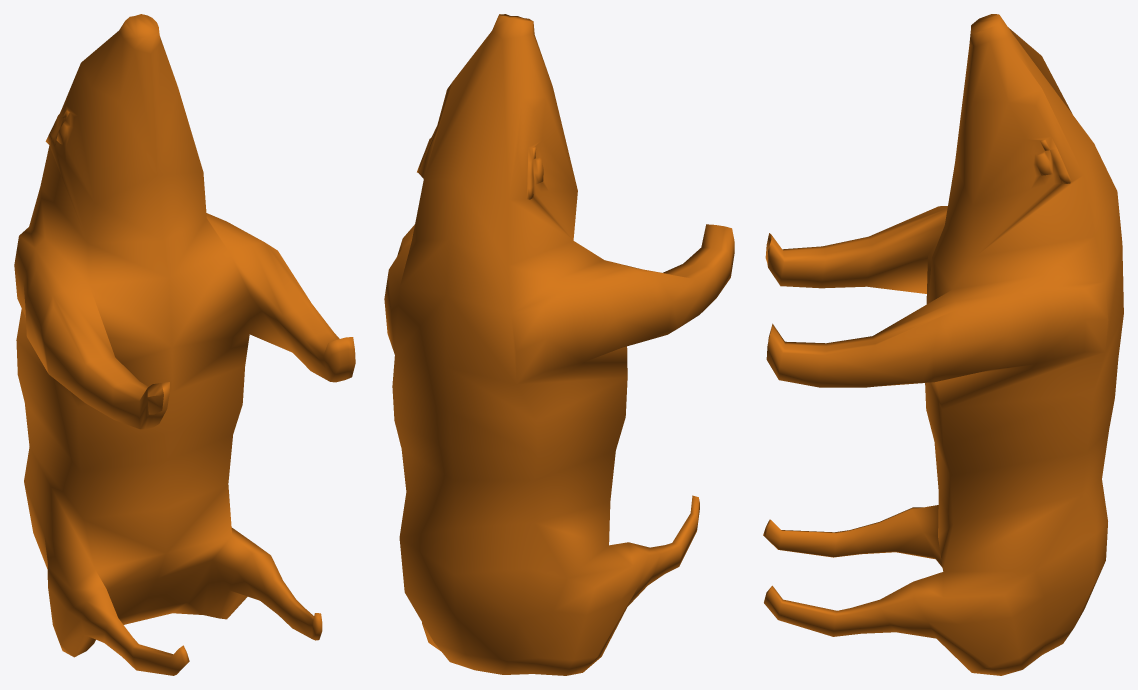
File: Boar4.fbx
The picture shows the model from 3 angles, left to right: view 1: azimuth 30°, elevation 25°; view 2: azimuth 150°, elevation 25°; view 3: azimuth 270°, elevation 25°; orthographic projection. The views are drawn at different scales.
Visible parts, largest first — view 1: Cube; view 2: Cube; view 3: Cube.
Boxes of the visible parts, <box> form: Cube: <box>14,14,355,675</box>; Cube: <box>384,14,734,675</box>; Cube: <box>763,14,1123,675</box>.
Size of the model in its own units: 706 by 1344 by 572.
